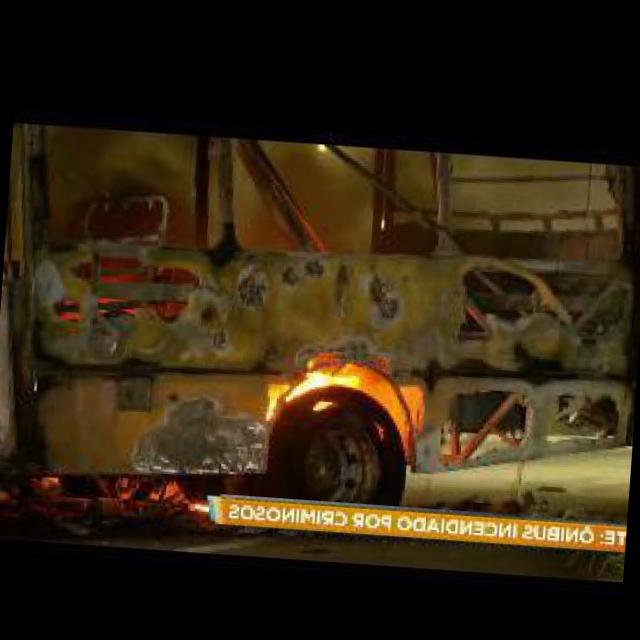fire: (263, 352, 413, 431)
